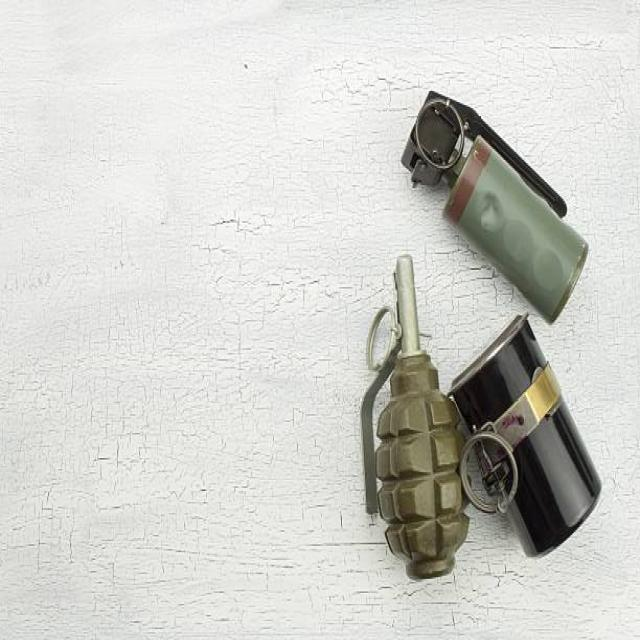grenade: (403, 80, 596, 325), (352, 252, 470, 583)
